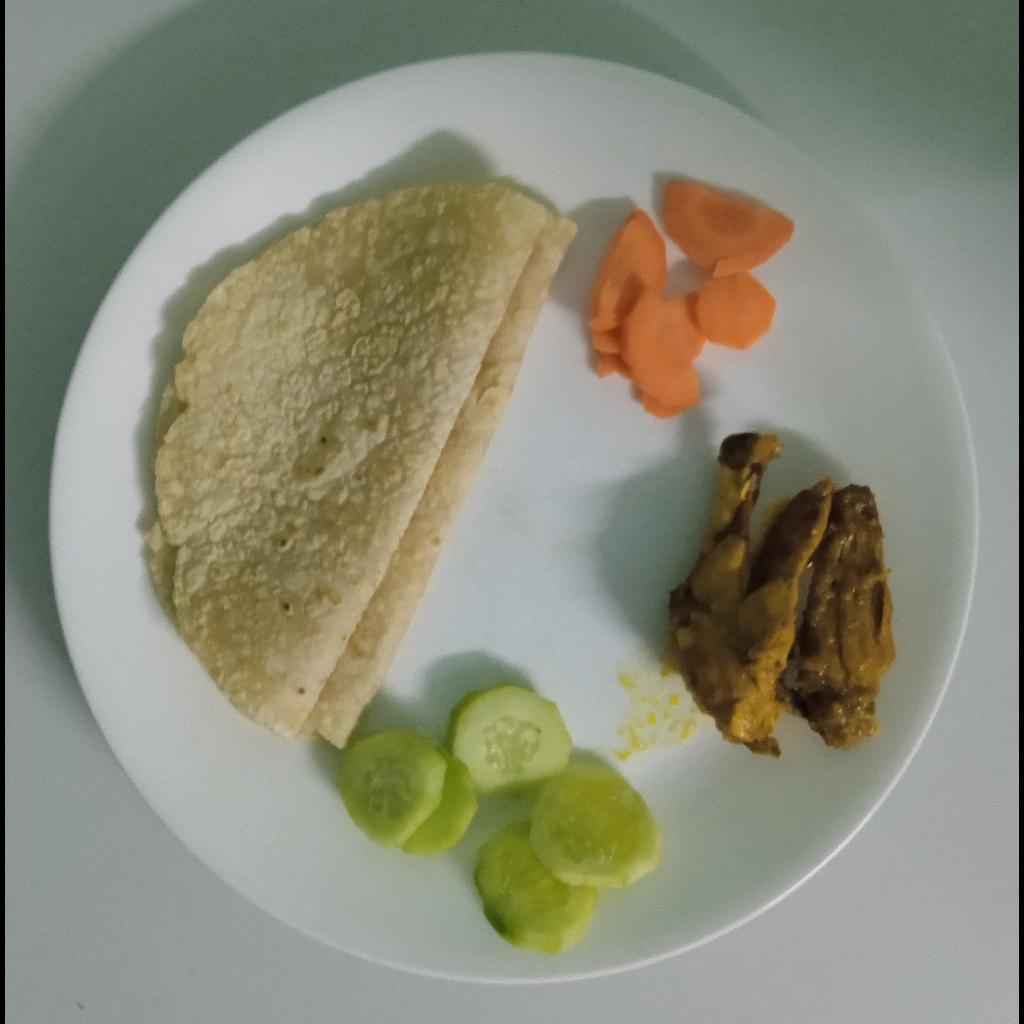carrot: (586, 180, 799, 420)
chicken: (667, 429, 900, 757)
cucumber: (336, 677, 662, 958)
ruti: (135, 180, 580, 752)
